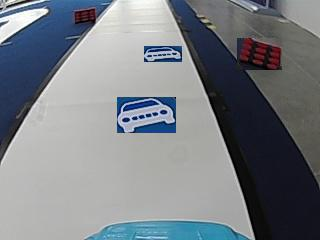bomb: (73, 7, 96, 22)
